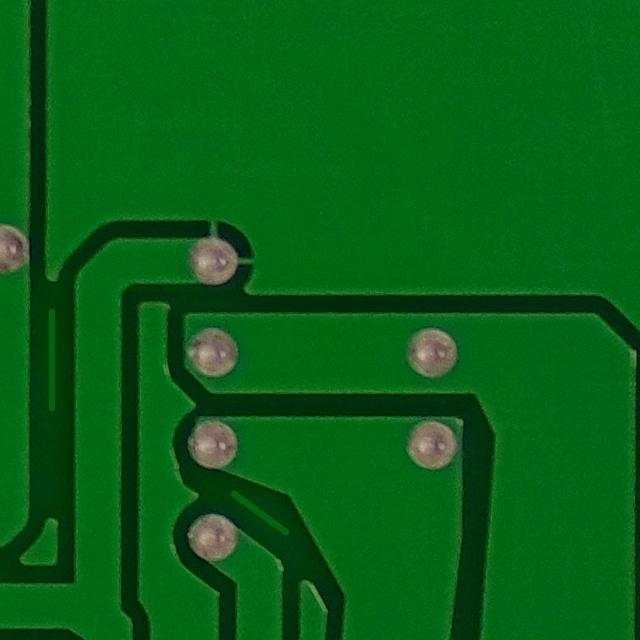spurious_copper: (218, 475, 308, 555), (30, 297, 76, 422)
